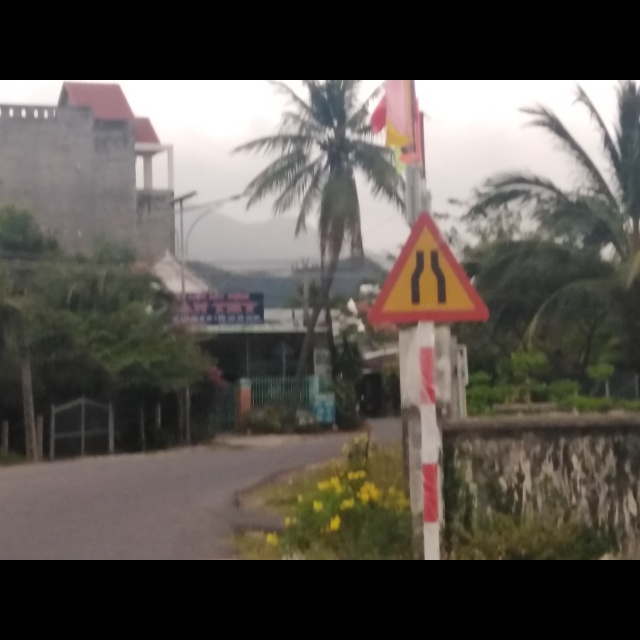Đường bị hẹp cả hai bên: (365, 207, 489, 322)
